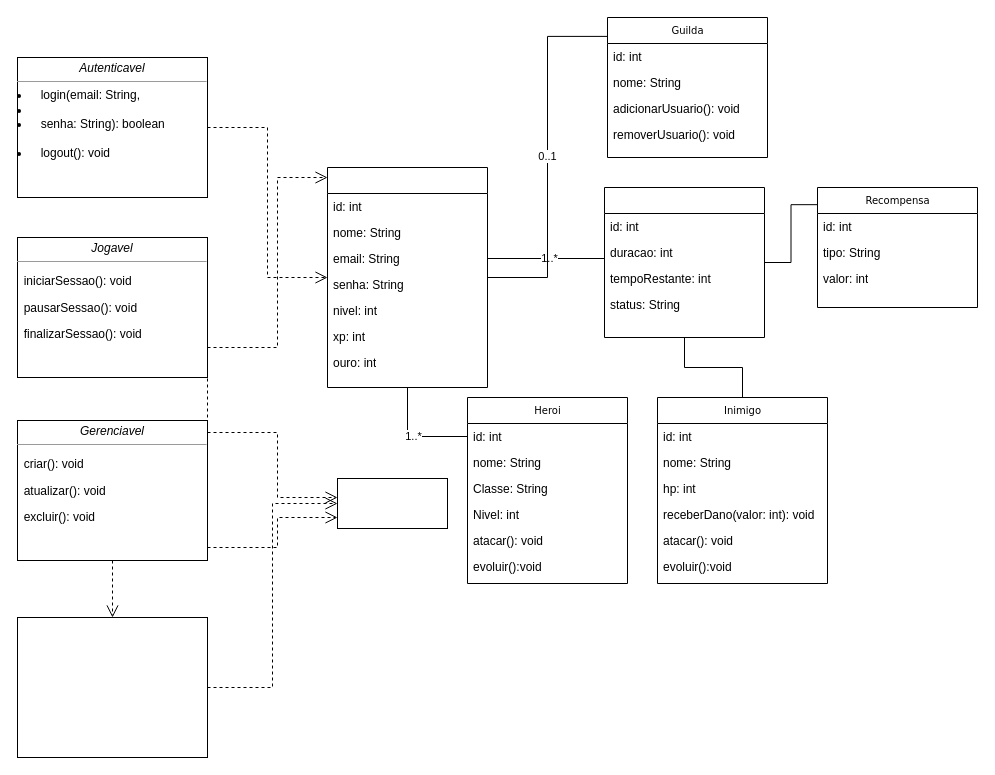
This 995x775 diagram has some shape labels left out. The box of each missing label's shape, as (x1, y1, x2, y2) in pixels:
Monitorável: (336, 478, 448, 528)
Recompensável calcularRecompensa(): int concederRecompensa(): void: (16, 616, 208, 758)
SessãoEstudo: (604, 186, 764, 338)
Usuário: (326, 166, 488, 388)
